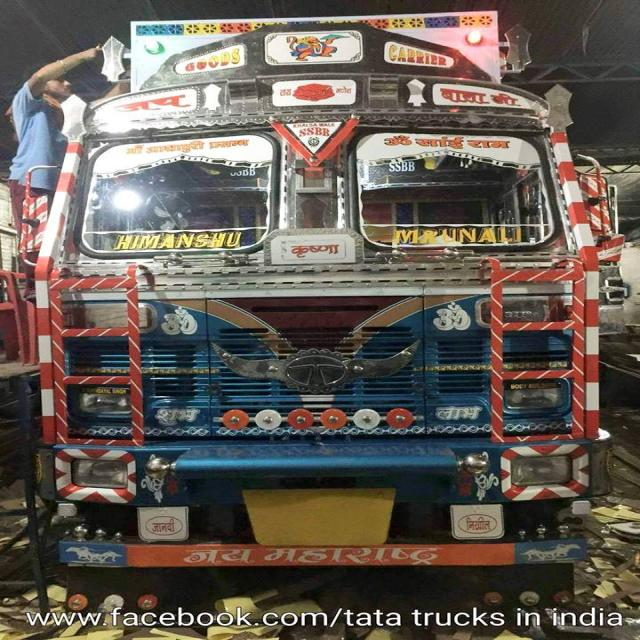truck: (29, 6, 625, 596)
